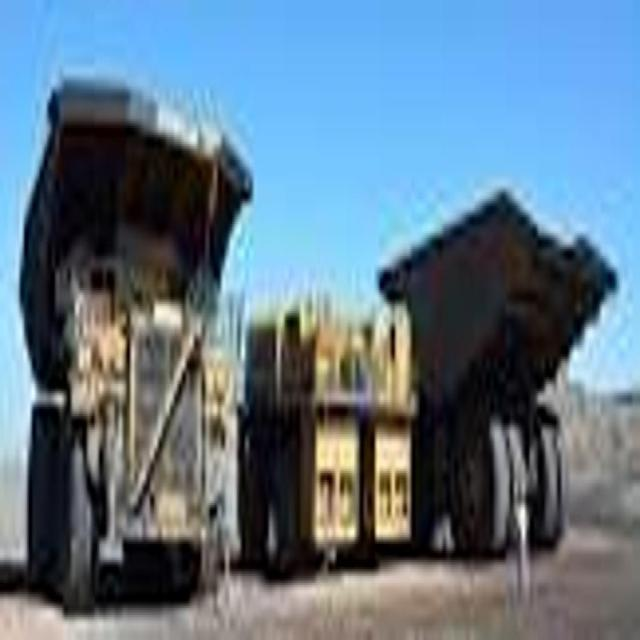dump_truck: (20, 47, 247, 626), (406, 133, 602, 576)
